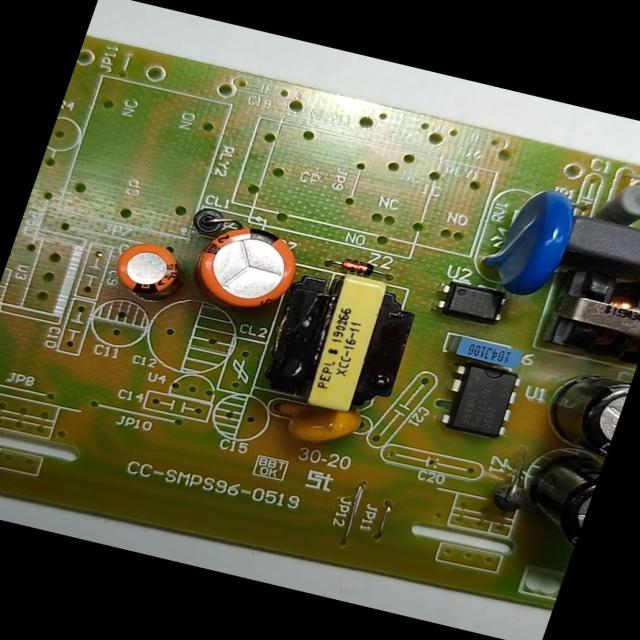Cap1: (183, 216, 309, 316)
Cap2: (109, 236, 187, 300)
Cap3: (534, 364, 631, 461)
Cap4: (509, 444, 604, 552)
MOSFET: (435, 358, 527, 441)
Mov: (475, 179, 585, 302)
Resistor: (592, 174, 640, 230)
Transformer: (254, 260, 429, 422), (538, 260, 640, 368)
